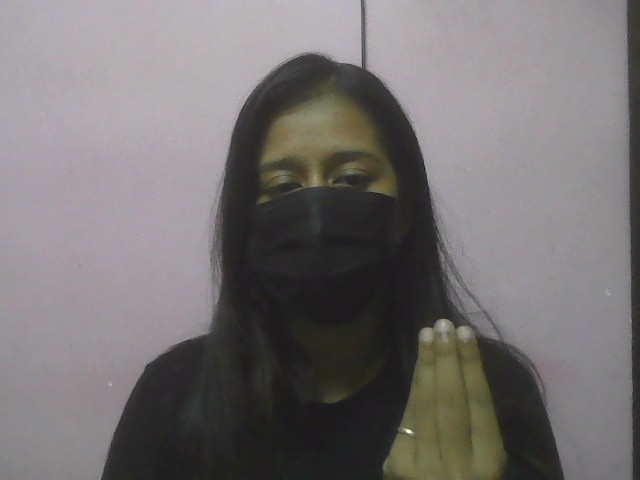Morning: (376, 301, 540, 479)
